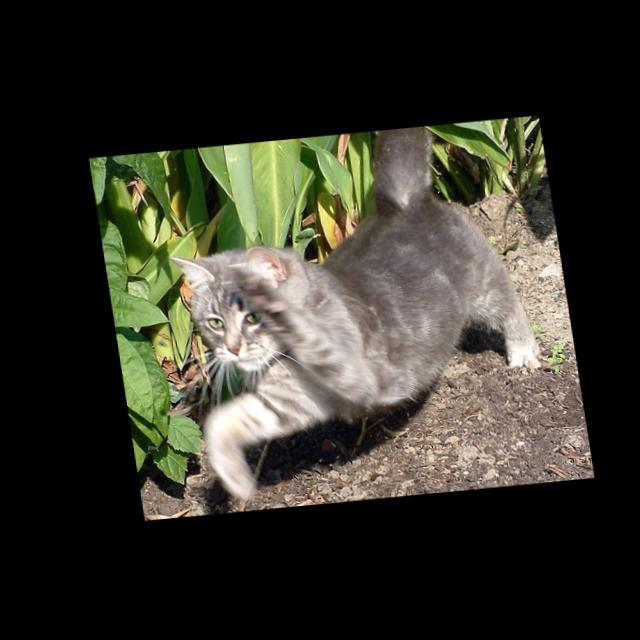animals: (166, 245, 292, 358)
